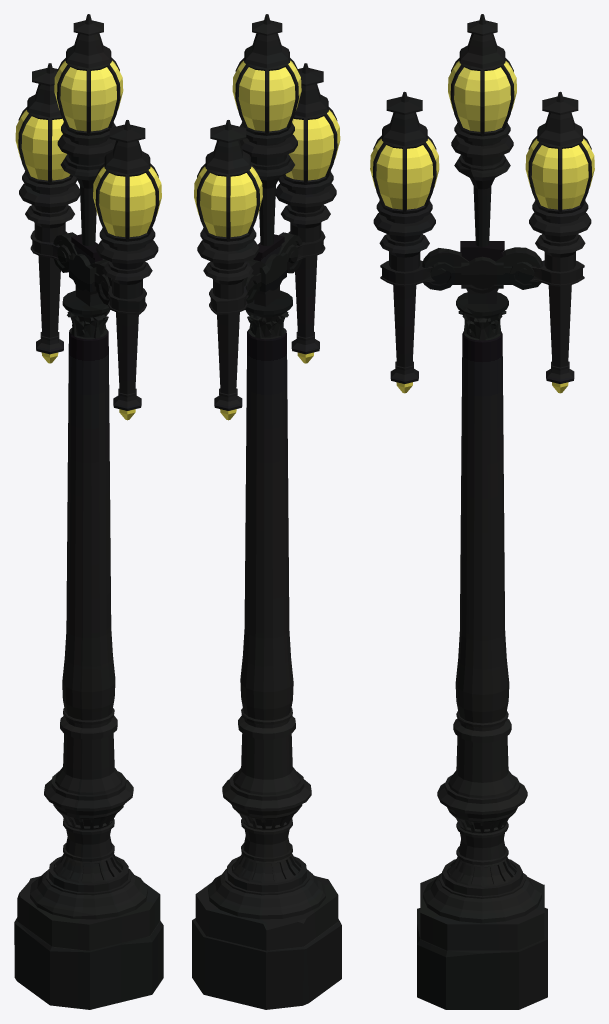
The model's file is LightPole07.fbx.
3 views of the same model, side by side, from view 1: azimuth 30°, elevation 25°; view 2: azimuth 150°, elevation 25°; view 3: azimuth 270°, elevation 25° (orthographic).
Parts seen in each view (by area): view 1: SM_City_LightPole_02b.mo; view 2: SM_City_LightPole_02b.mo; view 3: SM_City_LightPole_02b.mo.
Part boxes in pixels (x1=…): SM_City_LightPole_02b.mo: x1=14, y1=14, x2=163, y2=1009; SM_City_LightPole_02b.mo: x1=192, y1=14, x2=341, y2=1009; SM_City_LightPole_02b.mo: x1=370, y1=14, x2=594, y2=1009.
Size of the model in its own units: 87.85 by 713 by 150.
